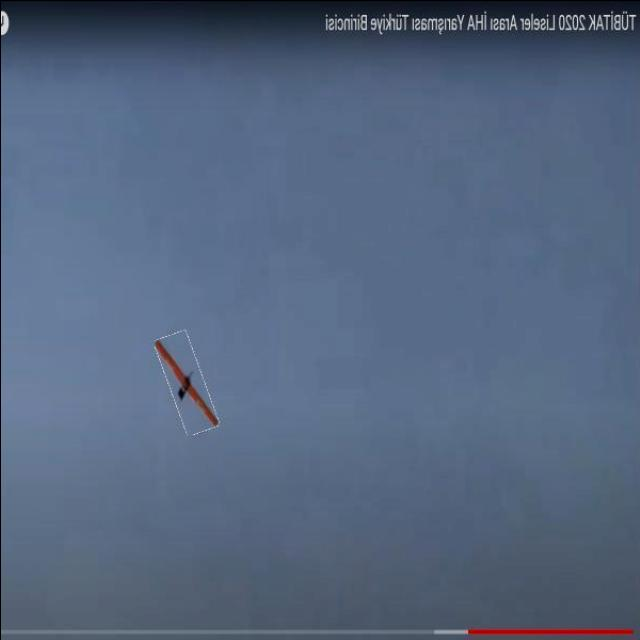plane: (150, 326, 219, 436)
